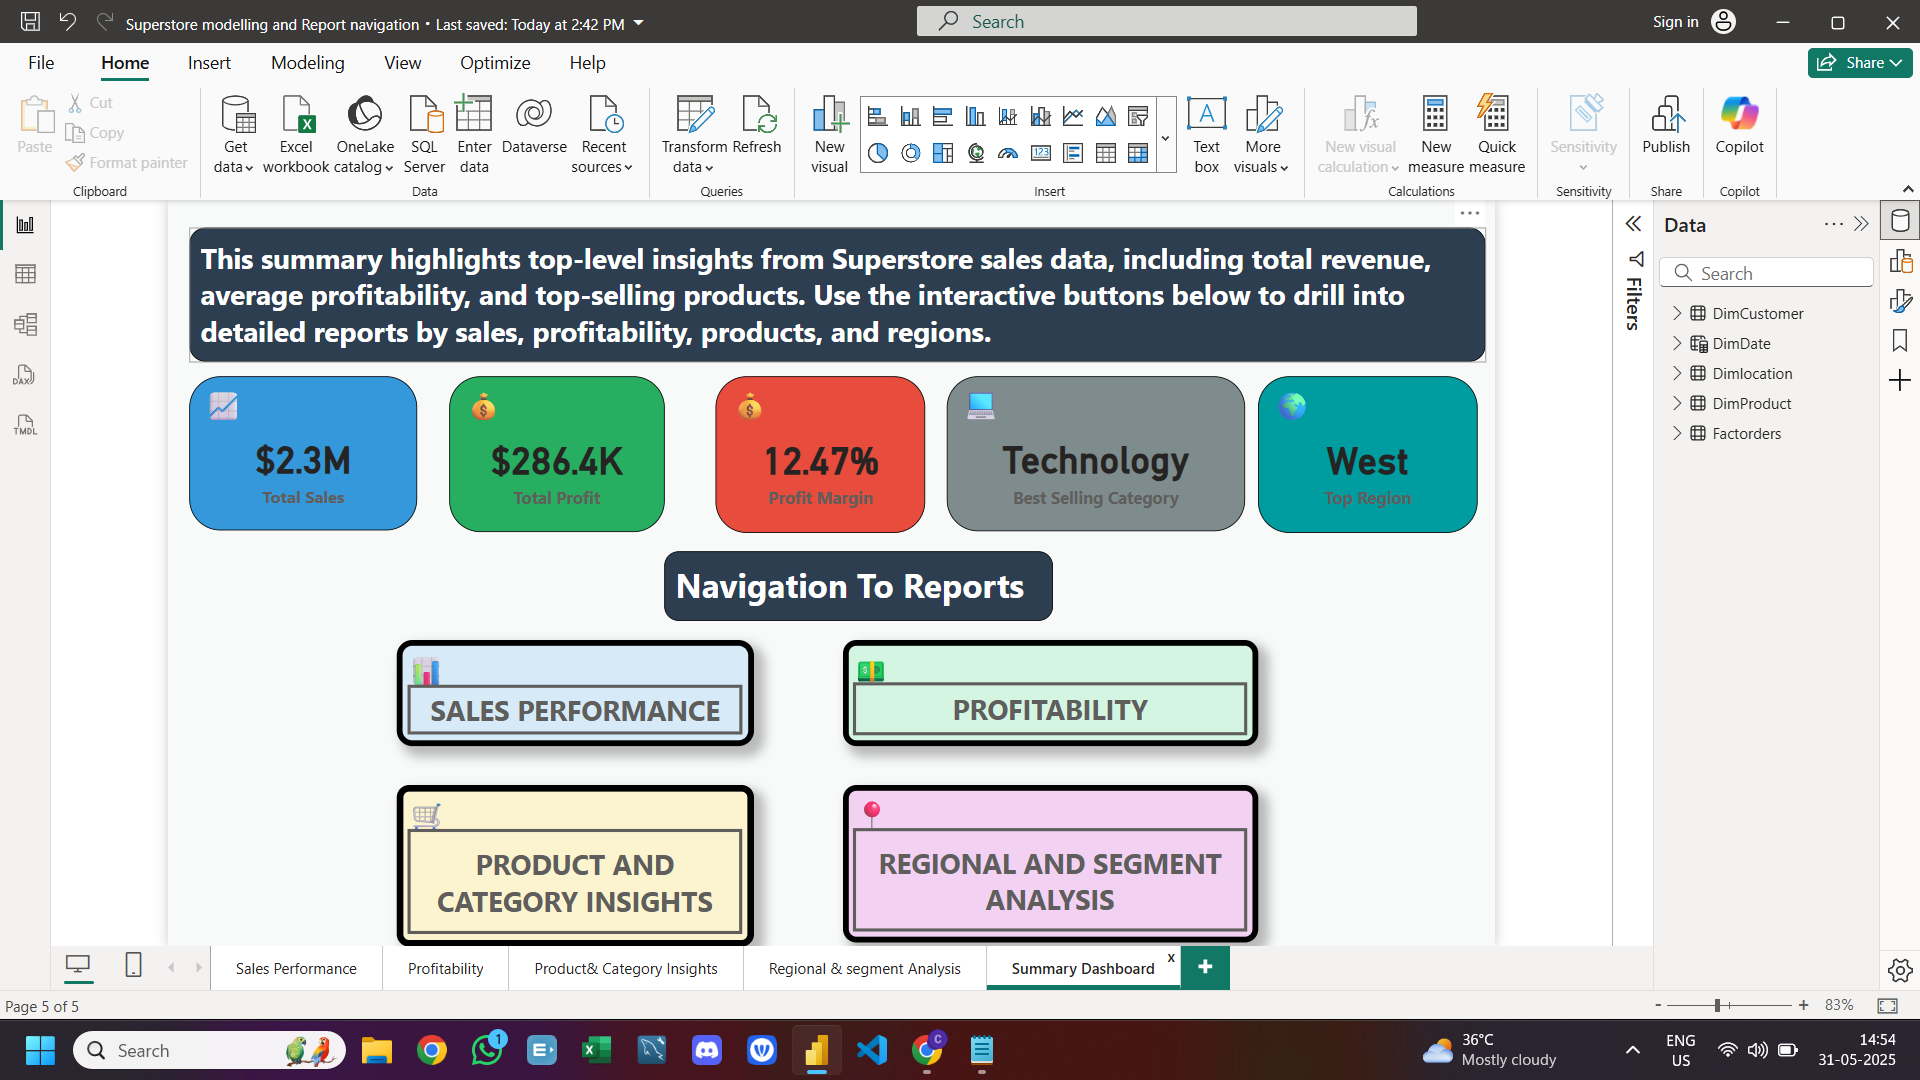

The dashboard page shown, as its layout file describes it:
{"tool":"powerbi","page":{"name":"Summary Dashboard","canvas":[1280,720],"ordinal":4},"visuals":[{"type":"textbox","box":[20.8,26.9,1251,129.6],"z":0},{"type":"card","title":"📈","fields":{"Values":["Sample - Superstore.Total Sales"]},"box":[20.8,170,220.1,149.2],"z":1000},{"type":"card","title":"💰","fields":{"Values":["Sample - Superstore.Total Profit"]},"box":[271.5,170,207.9,150.4],"z":2000},{"type":"card","title":"🌍","fields":{"Values":["Sample - Superstore.Top Region"]},"box":[1052,170.1,212.3,150.8],"z":3000},{"type":"card","title":"💻","fields":{"Values":["Sample - Superstore.Best Selling Category"]},"box":[751.6,170.1,288.3,149.6],"z":4000},{"type":"card","title":"💰","fields":{"Values":["Sample - Superstore.Profit Margin"]},"box":[528.4,170.1,202.7,150.8],"z":5000},{"type":"actionButton","title":"📊","box":[220.8,424.7,345,102.5],"z":6000},{"type":"actionButton","title":"💵","box":[651.5,424.7,400.5,102.5],"z":7000},{"type":"actionButton","title":"🛒","box":[220.8,564.6,345,155.6],"z":8000},{"type":"actionButton","title":"📍","box":[651.5,564.6,400.5,152],"z":9000},{"type":"textbox","box":[479,339,375.2,67.6],"z":10000}]}

Visuals, with their boxes on the page's 1280x720 design canvas (x1, y1, x2, y2). These are canvas units, not pixel positions in the 1920x1080 screenshot, which may show the page scaled, cropped or inside an application window:
textbox: [21, 27, 1272, 156]
"📈" card: [21, 170, 241, 319]
"💰" card: [272, 170, 479, 320]
"🌍" card: [1052, 170, 1264, 321]
"💻" card: [752, 170, 1040, 320]
"💰" card: [528, 170, 731, 321]
"📊" actionButton: [221, 425, 566, 527]
"💵" actionButton: [652, 425, 1052, 527]
"🛒" actionButton: [221, 565, 566, 720]
"📍" actionButton: [652, 565, 1052, 717]
textbox: [479, 339, 854, 407]
